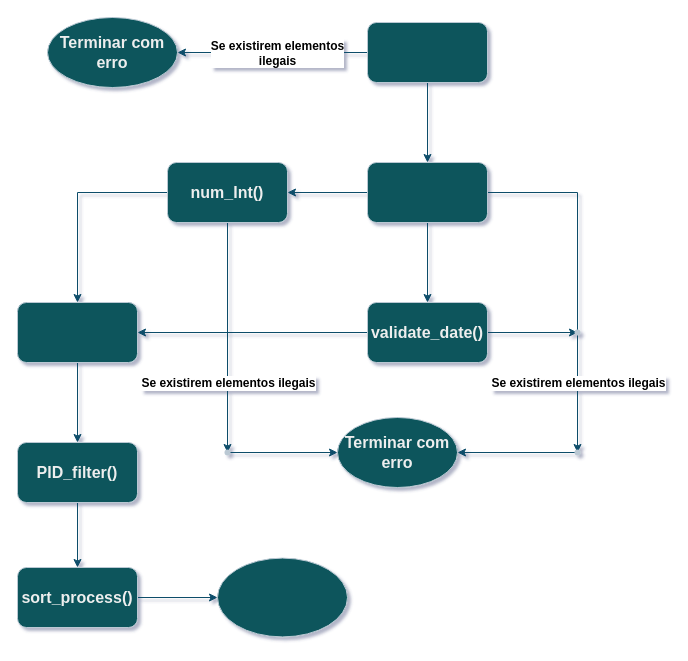
Image size: 688x661. Some labels were removed from this diagram. Each missing label, with the centre of its shape:
"arguments_ validation()" goes at (x=427, y=192).
"listar_ processos()" goes at (x=77, y=332).
"main()" goes at (x=427, y=52).
"Terminado com sucesso" goes at (x=282, y=597).
